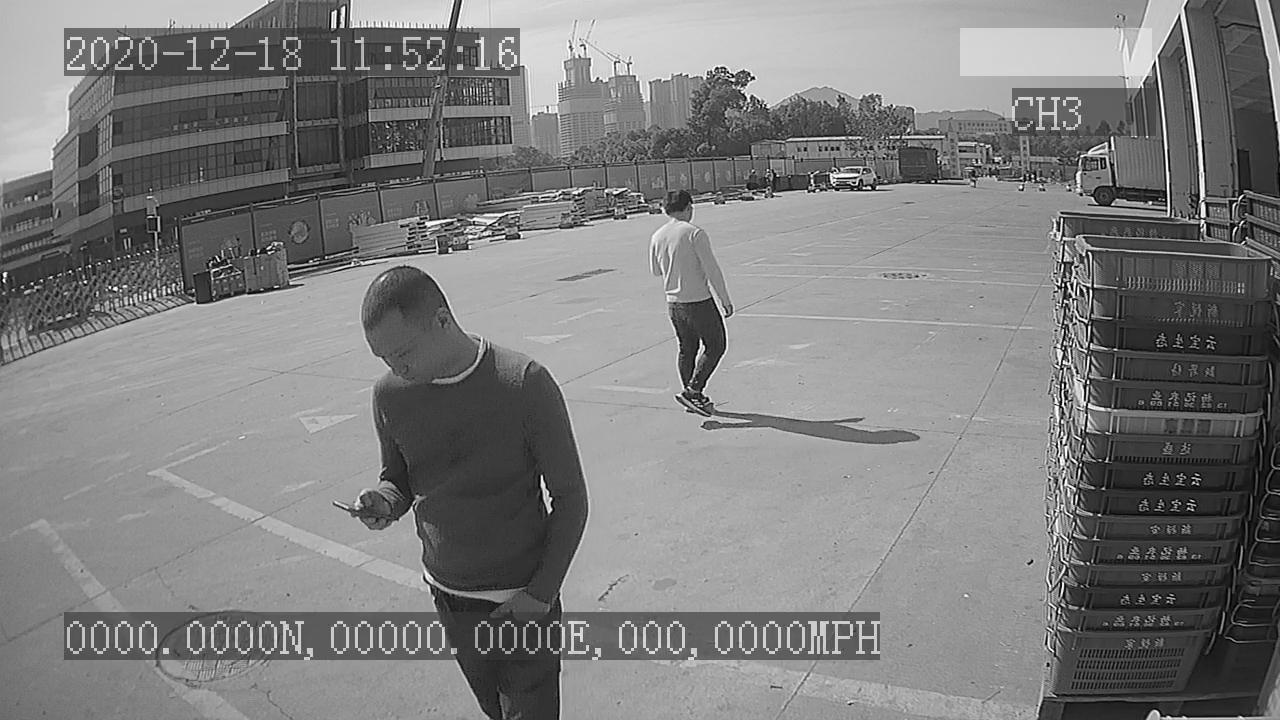person: (645, 188, 736, 419)
